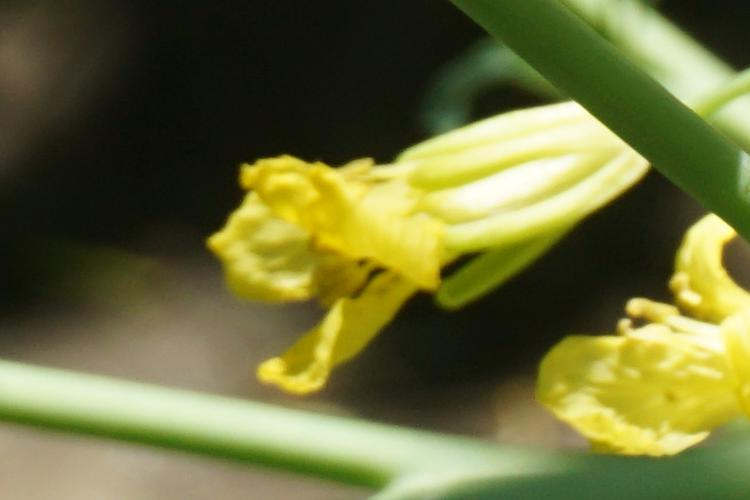yellow: (217, 112, 671, 322), (552, 216, 746, 453)
